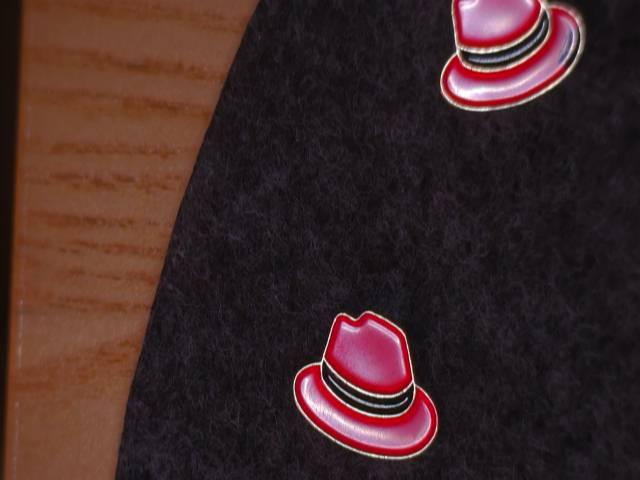Red-Hat: (281, 292, 475, 473), (422, 0, 604, 126)
Scratch: (557, 10, 590, 83)
